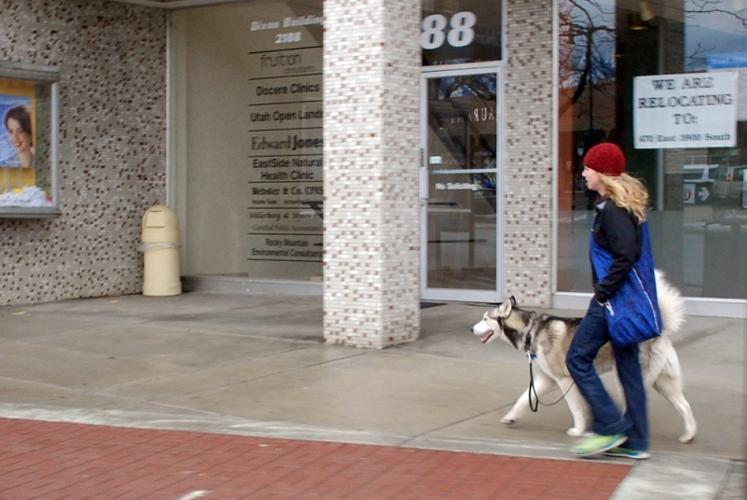person: (565, 145, 655, 464)
